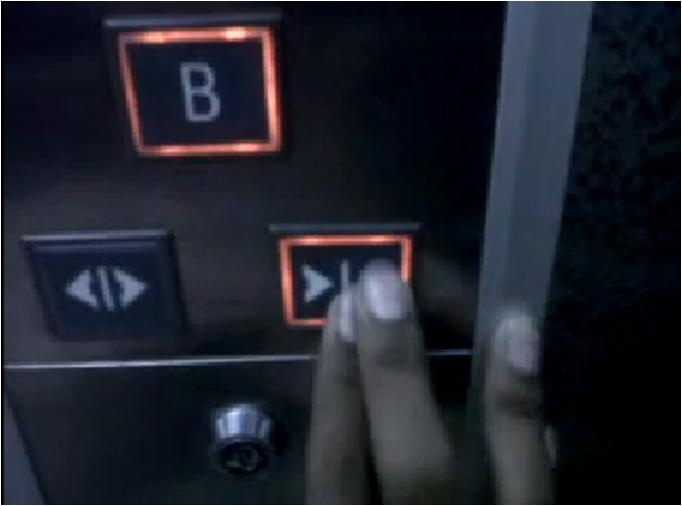B: (95, 10, 294, 168)
keyhole: (202, 400, 283, 484)
open: (16, 222, 191, 343)
